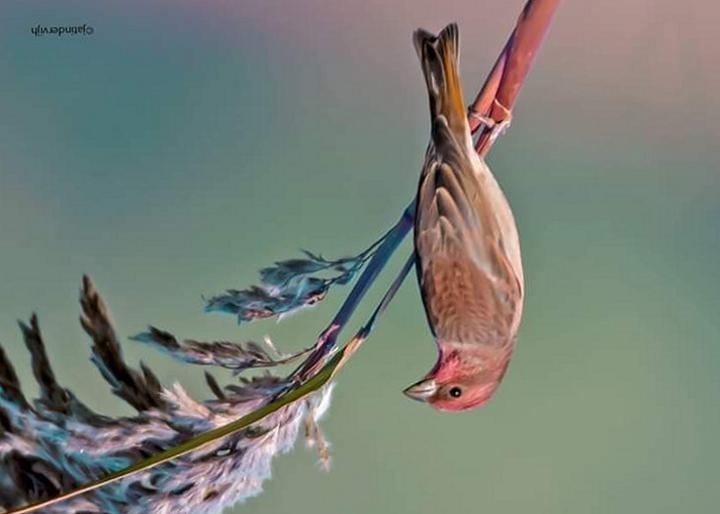rosefinch: (398, 37, 517, 422)
